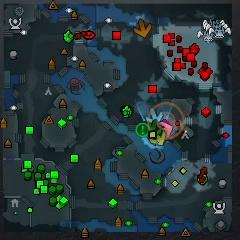Other: (136, 123, 151, 137)
x1: (160, 122, 173, 137)
x2: (149, 131, 166, 146)
x3: (145, 108, 163, 122)
x4: (149, 119, 160, 133)
x5: (134, 19, 151, 38)
